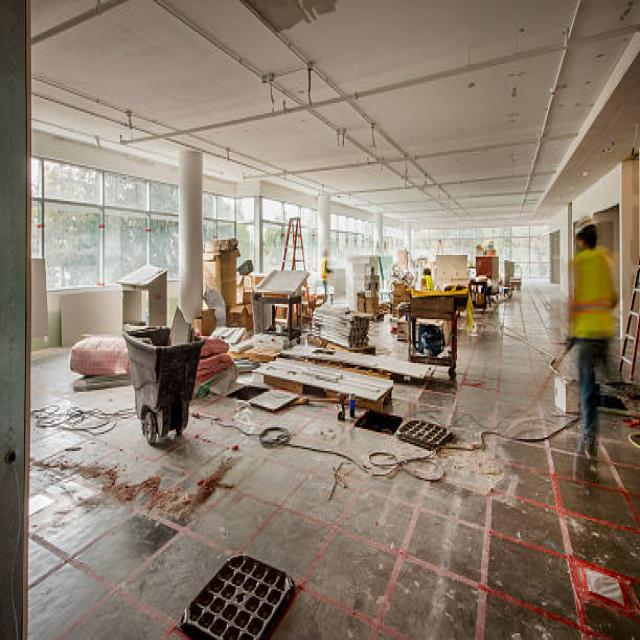Interior Finishing and Carpentry: (32, 7, 592, 640)
